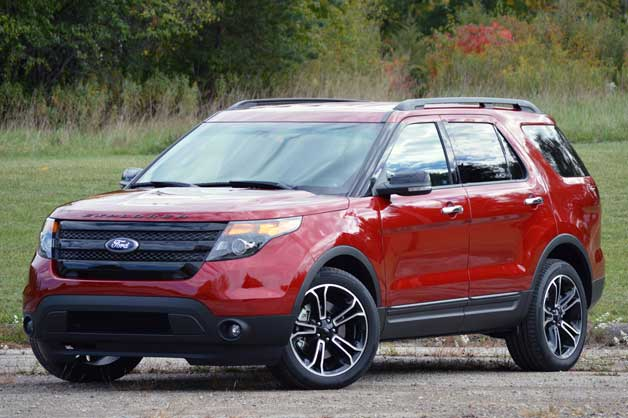Ford Explorer: (19, 93, 608, 393)
